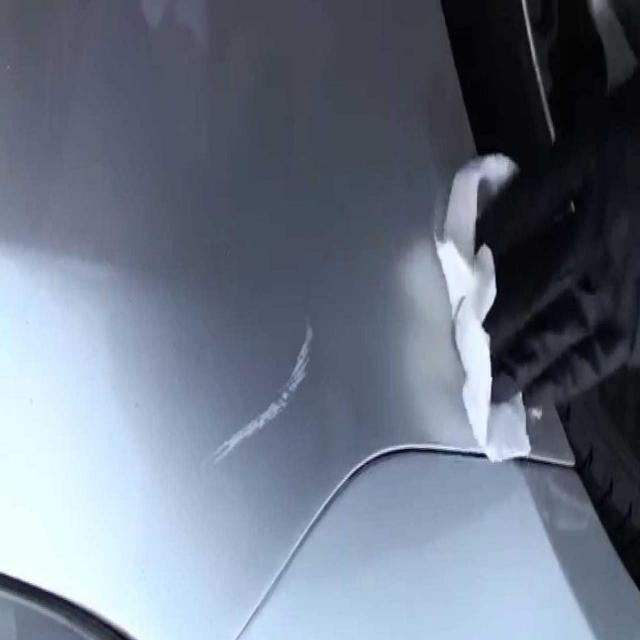scratch: (198, 308, 326, 474)
